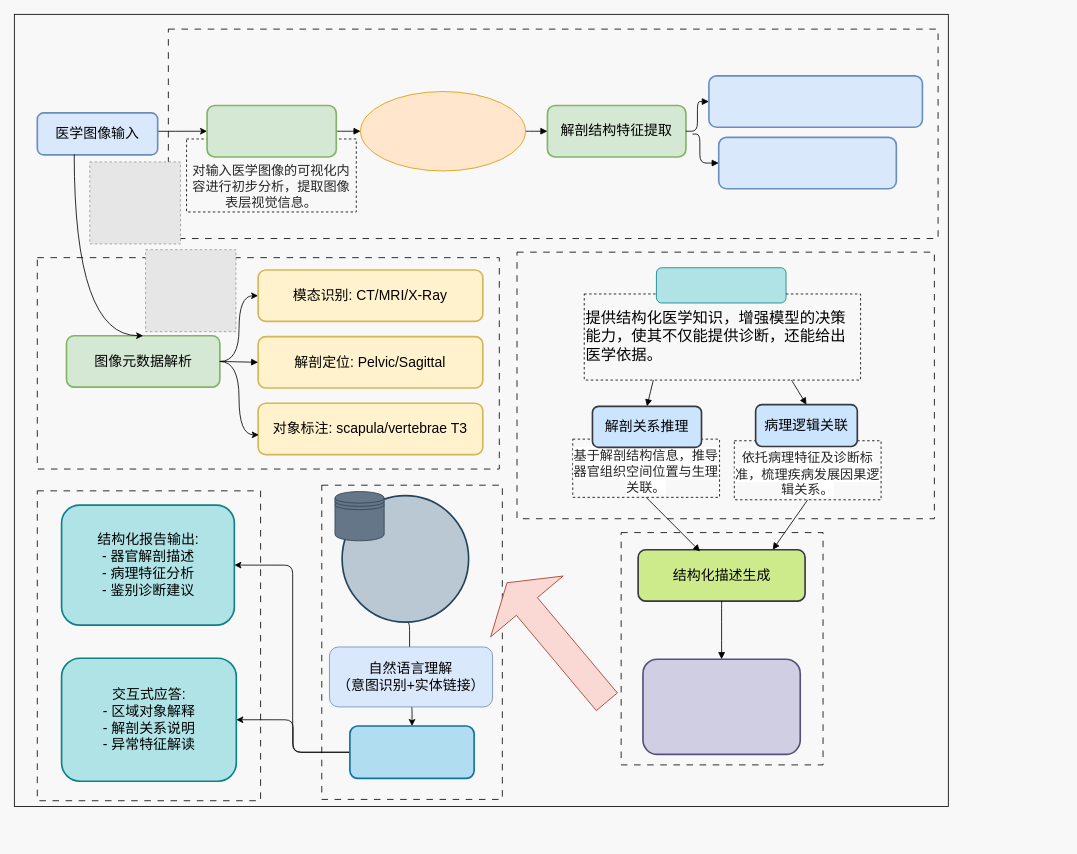
This 1077x854 diagram has some shape labels left out. Grey dashed boxes stand in for pictures. The box of each missing label's shape, as (x1, y1, x2, y2) in pixels:
QA对生成: (349, 725, 475, 779)
VLM-R1视觉编码器 （多尺度特征提取）: (360, 91, 526, 171)
医学知识图谱: (656, 267, 786, 303)
向量数据库 (语义相似度检索): (341, 494, 469, 623)
器官定位: 肝脏/肾脏/胆囊: (718, 136, 897, 189)
图像内容解析: (206, 104, 337, 157)
病理特征检测: 密度/形态/增强: (708, 75, 923, 128)
诊断要素整合: - 器官状态 - 血管分布 - 异常特征: (642, 658, 801, 755)
